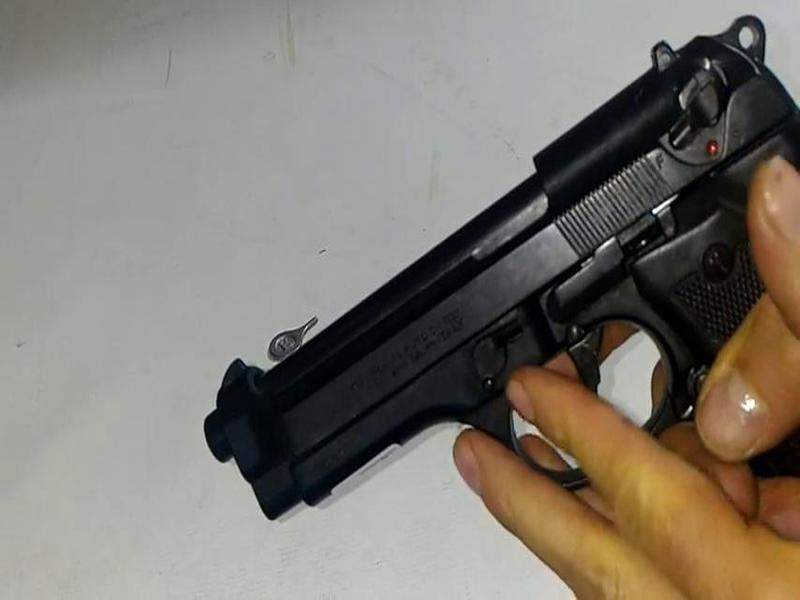Pistola: (213, 12, 800, 544)
